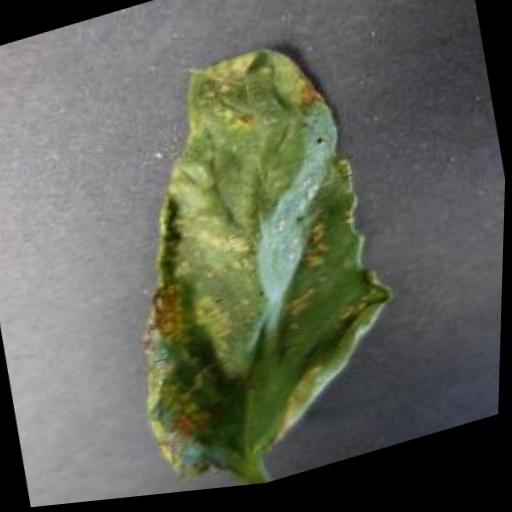Bacterial Spot: (69, 4, 435, 505)
